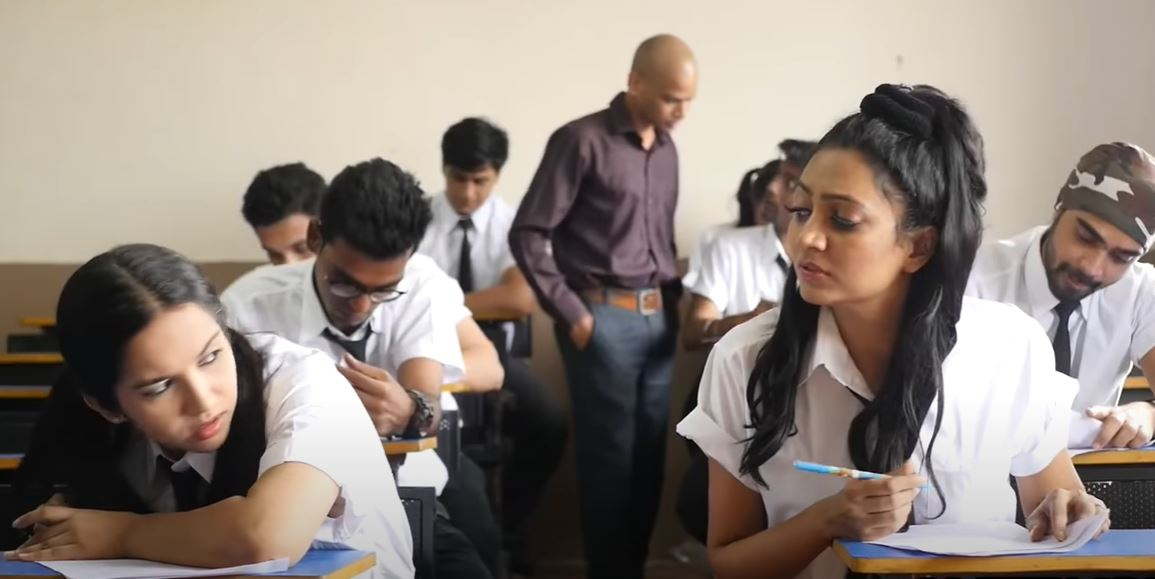invigilator: (528, 23, 710, 566)
student: (37, 235, 371, 557), (261, 152, 484, 430), (997, 103, 1155, 456), (421, 98, 542, 336)
studentcopying: (683, 78, 1028, 566)
